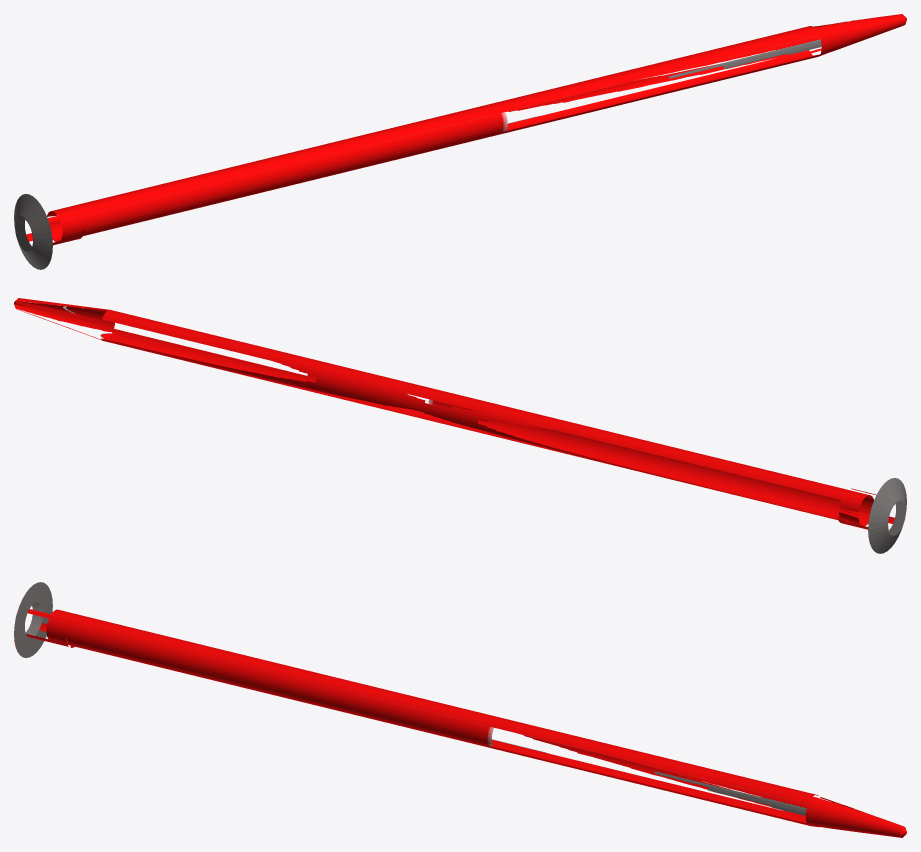
The model's file is knittingneedle.obj.
3 views of the same model, one above another, from view 1: azimuth 30°, elevation 25°; view 2: azimuth 150°, elevation 25°; view 3: azimuth 330°, elevation 25° (orthographic).
Parts seen in each view (by area): view 1: Cylinder; view 2: Cylinder; view 3: Cylinder.
Part boxes in pixels (x1,y1,x2,y2): Cylinder: [14, 14, 906, 269]; Cylinder: [14, 298, 906, 553]; Cylinder: [14, 582, 906, 837].
Bounding box in the file's own units: 6.26 × 0.4777 × 0.4777.
Materials: 1 (1 with a texture image).
